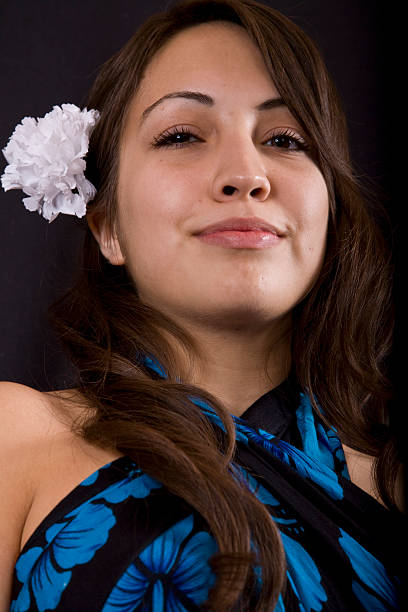face: (120, 46, 323, 320)
